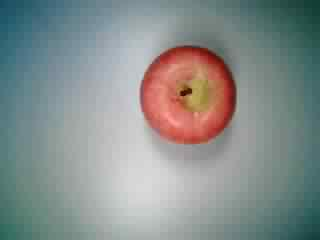apple: (135, 44, 239, 148)
